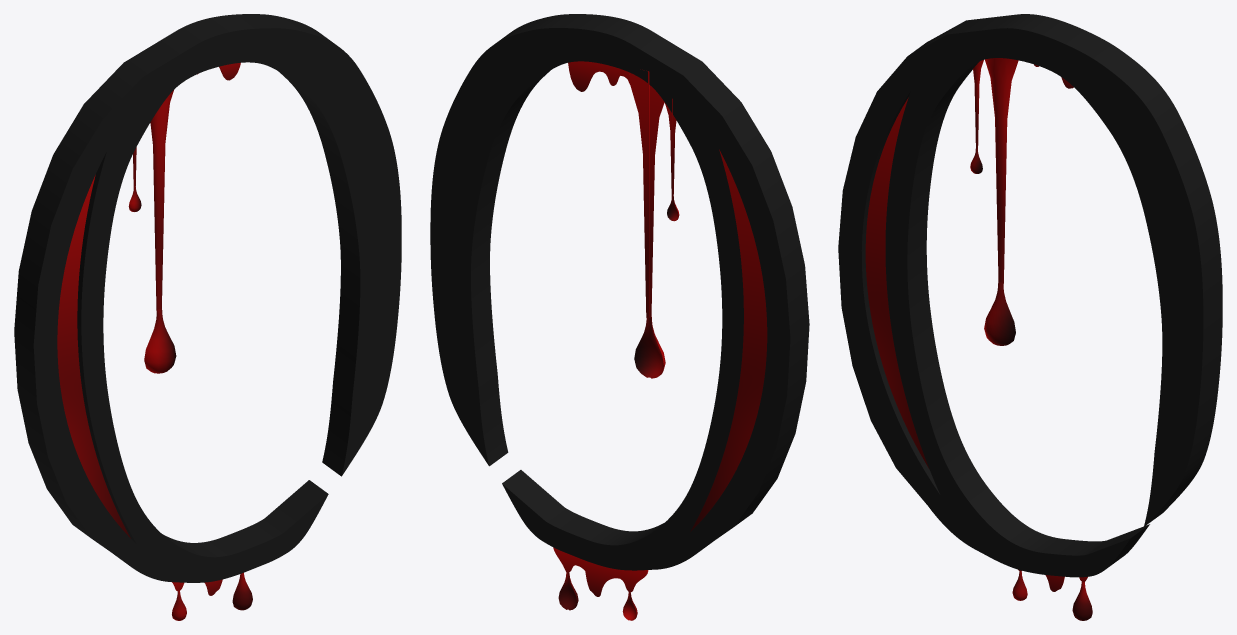
The picture shows the model from 3 angles, left to right: view 1: azimuth 30°, elevation 25°; view 2: azimuth 150°, elevation 25°; view 3: azimuth 330°, elevation 25°; orthographic projection. The views are drawn at different scales.
Visible parts, largest first — view 1: O, O_Element, Blood_040, Blood_042; view 2: O, O_Element, Blood_040, Blood_042, Blood_047, Blood_041; view 3: O, O_Element, Blood_040, Blood_042, Blood_041.
Part boxes in pixels (left/top/right/bottom): O: left=14, top=14, right=401, bottom=582; O_Element: left=57, top=175, right=130, bottom=538; Blood_040: left=144, top=90, right=176, bottom=373; Blood_042: left=172, top=572, right=252, bottom=620; O: left=430, top=14, right=809, bottom=570; O_Element: left=690, top=149, right=767, bottom=531; Blood_040: left=628, top=71, right=665, bottom=378; Blood_042: left=553, top=547, right=648, bottom=620; Blood_047: left=568, top=61, right=629, bottom=91; Blood_041: left=664, top=98, right=679, bottom=221; O: left=838, top=14, right=1222, bottom=577; O_Element: left=865, top=97, right=929, bottom=468; Blood_040: left=984, top=58, right=1018, bottom=345; Blood_042: left=1012, top=569, right=1092, bottom=620; Blood_041: left=970, top=60, right=983, bottom=173.
Bounding box in the file's own units: 54.53 × 84.81 × 5.05.
2 materials, 1 textured.
